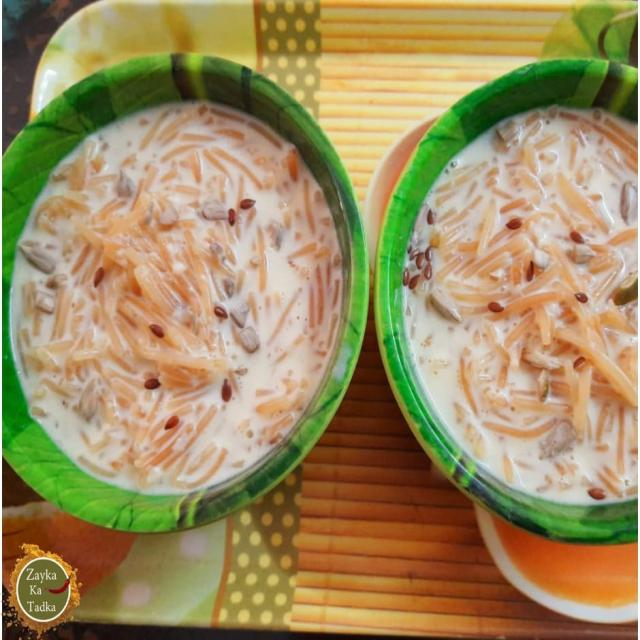shavige payasa: (0, 49, 359, 526), (393, 78, 640, 522)
